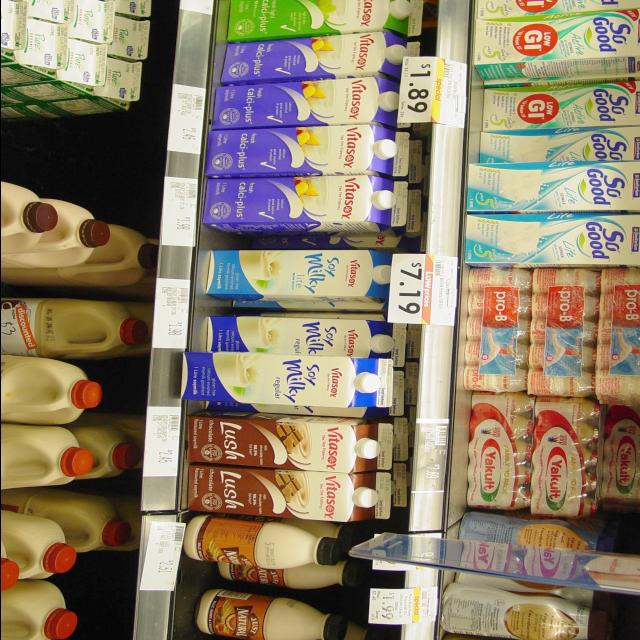empty_space: (0, 109, 148, 187), (81, 556, 133, 636), (95, 360, 141, 416), (447, 398, 465, 534), (470, 78, 485, 162)
